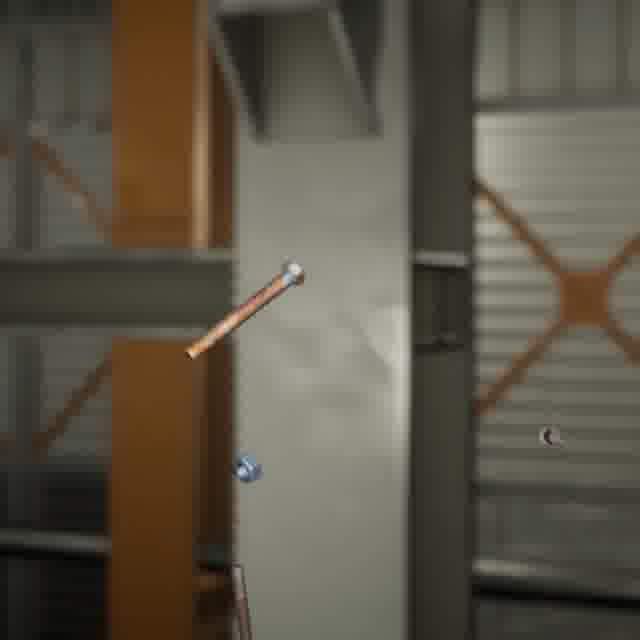bolt: (180, 256, 309, 365), (226, 558, 257, 640), (533, 419, 569, 449)
nut: (228, 448, 265, 488)
